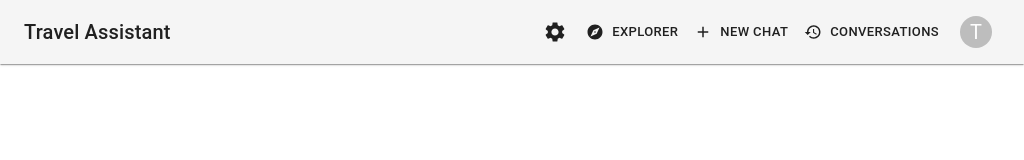
Header › signed-in controls › opens the Conversations menu on click and shows a spinner while loading
Click the button "Conversations" at (873, 32), box [801, 17, 944, 47]
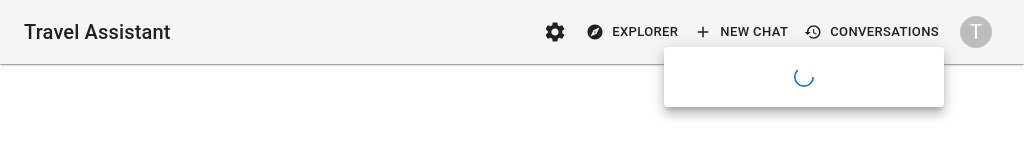
Result: the progress indicator is shown at [794, 67, 814, 87]
